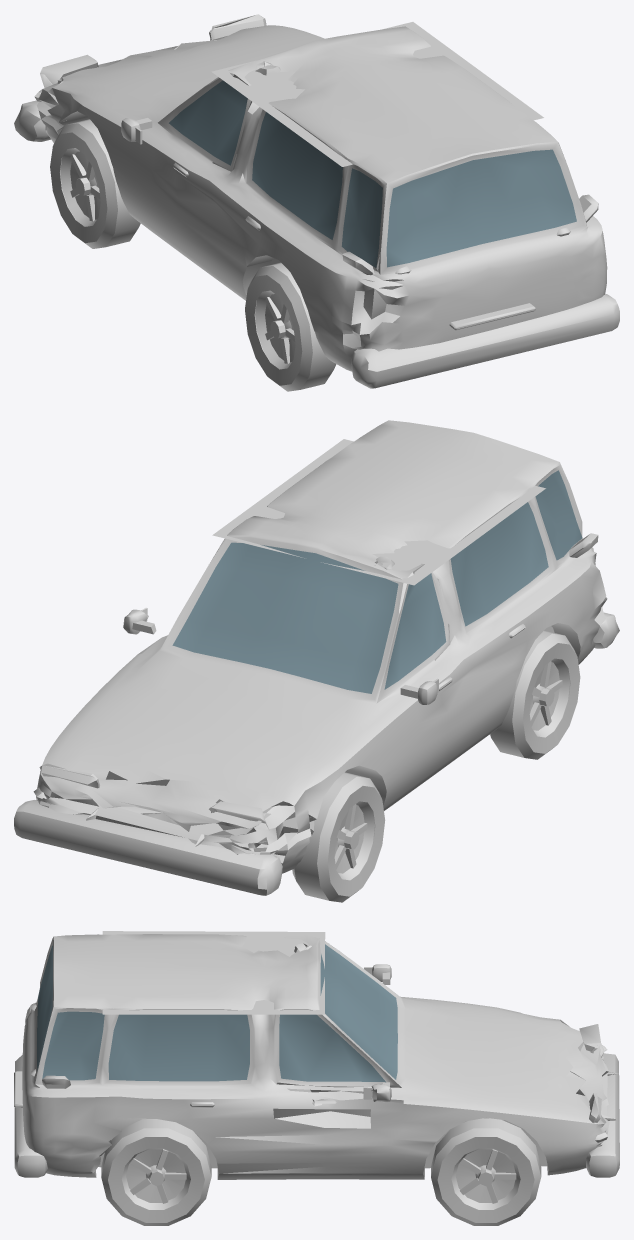
Rendered from car_hatch_dmg2.glb.
The picture shows the model from 3 angles, top to bottom: view 1: azimuth 30°, elevation 25°; view 2: azimuth 150°, elevation 25°; view 3: azimuth 270°, elevation 25°; orthographic projection. The views are drawn at different scales.
Parts seen in each view (by area): view 1: car_hatch_dmg2; view 2: car_hatch_dmg2; view 3: car_hatch_dmg2.
Boxes of the visible parts, x1,y1,x2,y2 form: car_hatch_dmg2: (14,14,619,391); car_hatch_dmg2: (14,420,619,902); car_hatch_dmg2: (14,931,619,1225).
Size of the model in its own units: 1.95 by 1.49 by 3.95.
